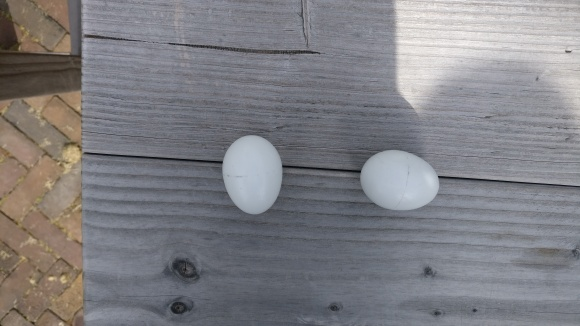egg: (221, 135, 284, 215), (360, 149, 440, 211)
